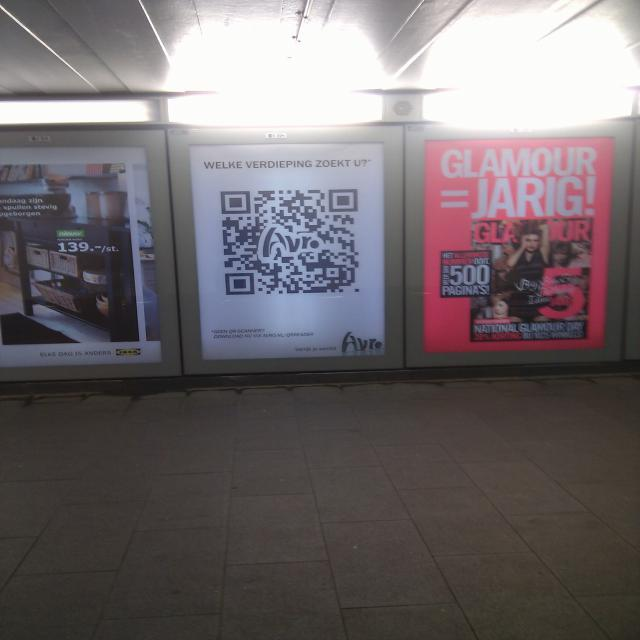qrcode: (222, 190, 361, 296)
